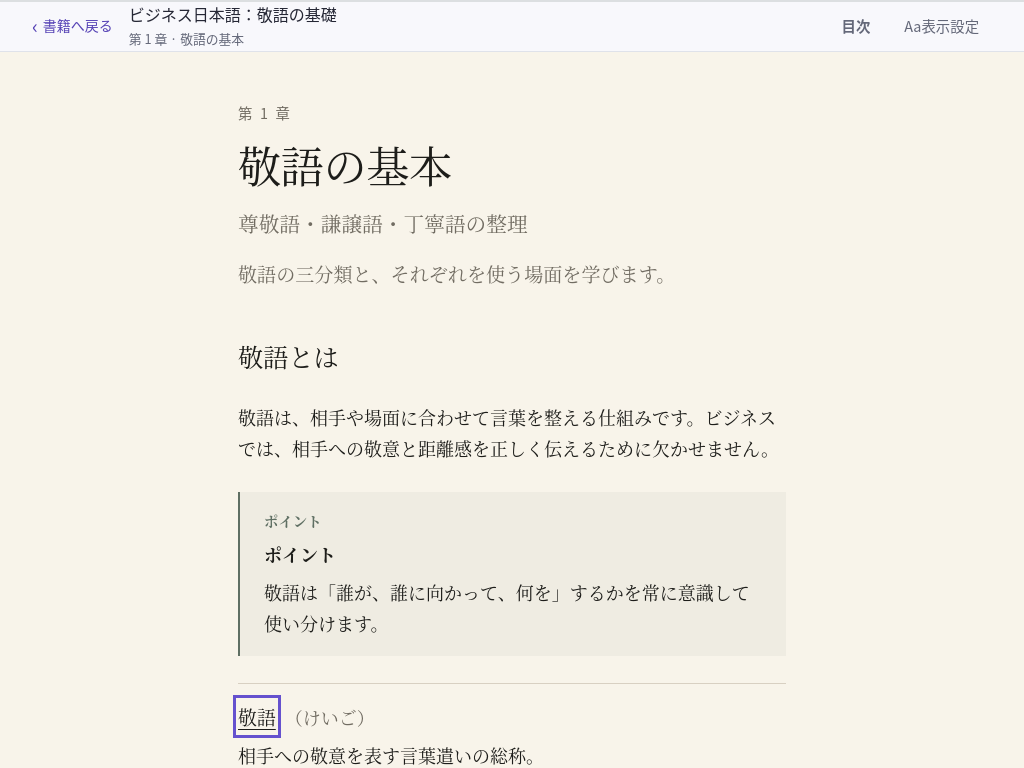
vocabulary sheet › opens the definition sheet and returns focus to the term on close
This screenshot has width=1024, height=768.
Click the button "敬語" at [257, 716], box [238,700,276,733]
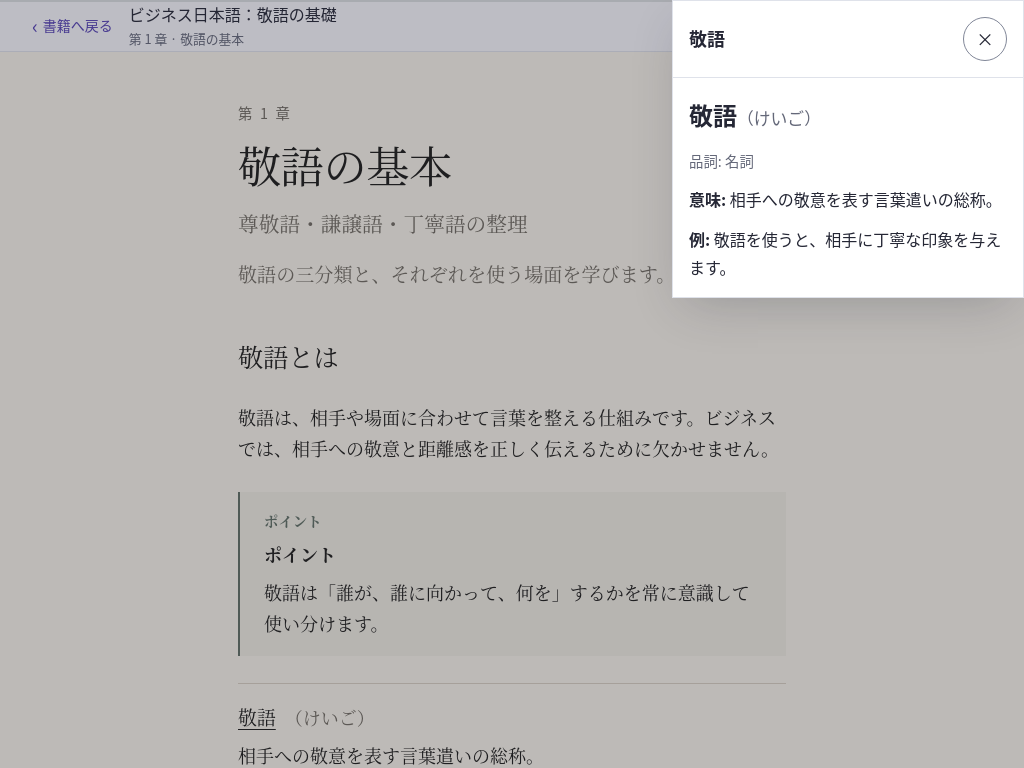
Expected: the dialog shows "相手への敬意を表す言葉遣いの総称。", [730,187,1002,211]
Expected: the button "敬語" is expanded, [238,700,276,733]
Press Escape in the dialog, box [672,0,1023,298]
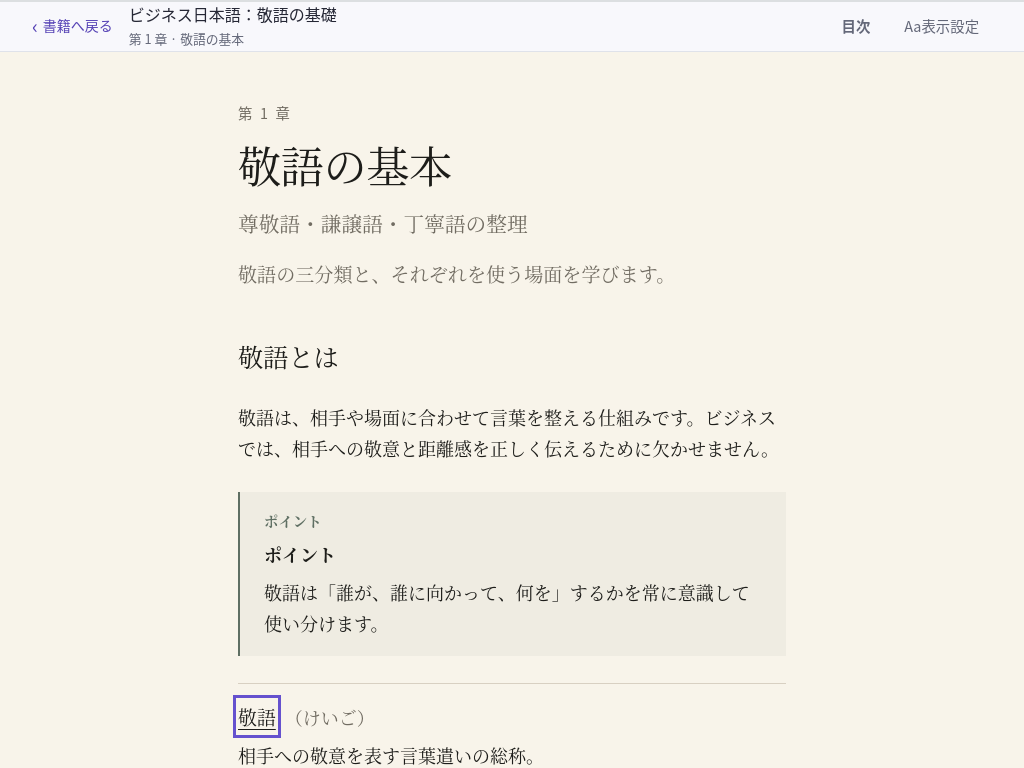
Expected: the dialog is gone
Expected: the button "敬語" is collapsed, [238,700,276,733]
Expected: the element with class "reader-vocab-detail" is gone
